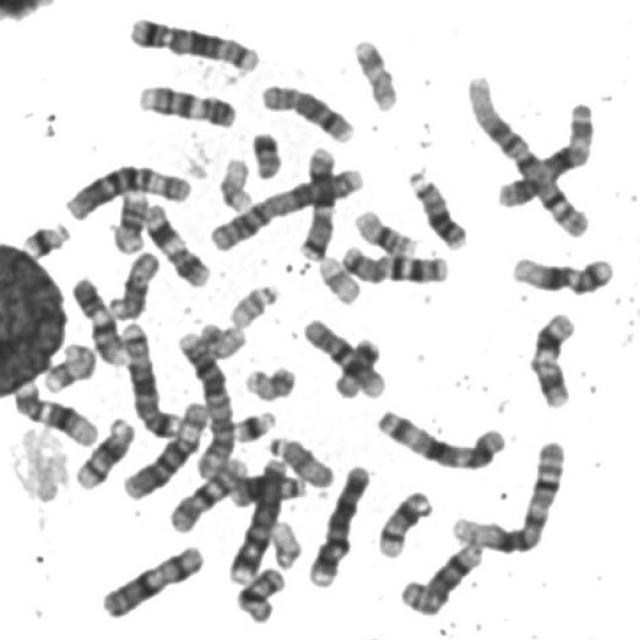A1: (462, 66, 595, 241), (446, 433, 570, 555)
A2: (205, 160, 368, 252), (172, 325, 239, 479)
A3: (491, 94, 598, 208), (372, 401, 512, 472)
B4: (304, 456, 374, 588), (224, 451, 290, 586)
B5: (124, 9, 264, 74), (116, 315, 184, 439)
C10: (298, 310, 389, 399), (163, 449, 251, 535)
C11: (138, 197, 214, 290), (525, 305, 581, 410)
C12: (8, 375, 102, 448), (506, 247, 620, 296)
C6: (118, 394, 213, 502), (60, 157, 196, 221)
C7: (294, 138, 340, 262), (336, 237, 454, 285)
C8: (394, 534, 488, 618), (255, 76, 359, 144)
C9: (66, 268, 129, 366), (132, 77, 240, 129)
D13: (402, 162, 472, 251), (227, 466, 309, 508)
D14: (69, 410, 137, 492), (372, 483, 437, 560)
D15: (262, 428, 338, 489), (103, 245, 163, 321)
E16: (349, 202, 422, 259), (108, 184, 152, 255)
E17: (347, 30, 403, 113), (38, 336, 99, 394)
E18: (232, 561, 289, 624), (332, 332, 380, 400)
F19: (313, 249, 365, 306), (214, 150, 258, 213)
F20: (239, 358, 300, 402), (195, 316, 250, 360)
G21: (17, 214, 74, 260), (228, 402, 280, 444)
G22: (224, 276, 284, 329), (266, 513, 307, 571)
X: (94, 537, 208, 621)
Y: (246, 124, 287, 180)
